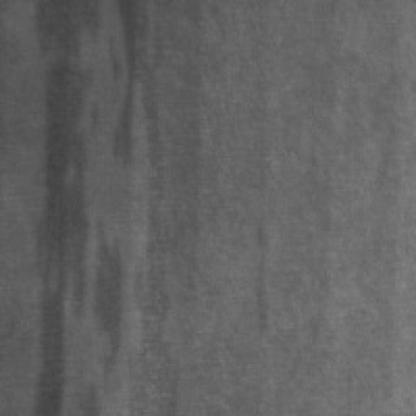inclusion: (29, 0, 126, 410), (102, 0, 150, 168), (241, 218, 277, 337)
